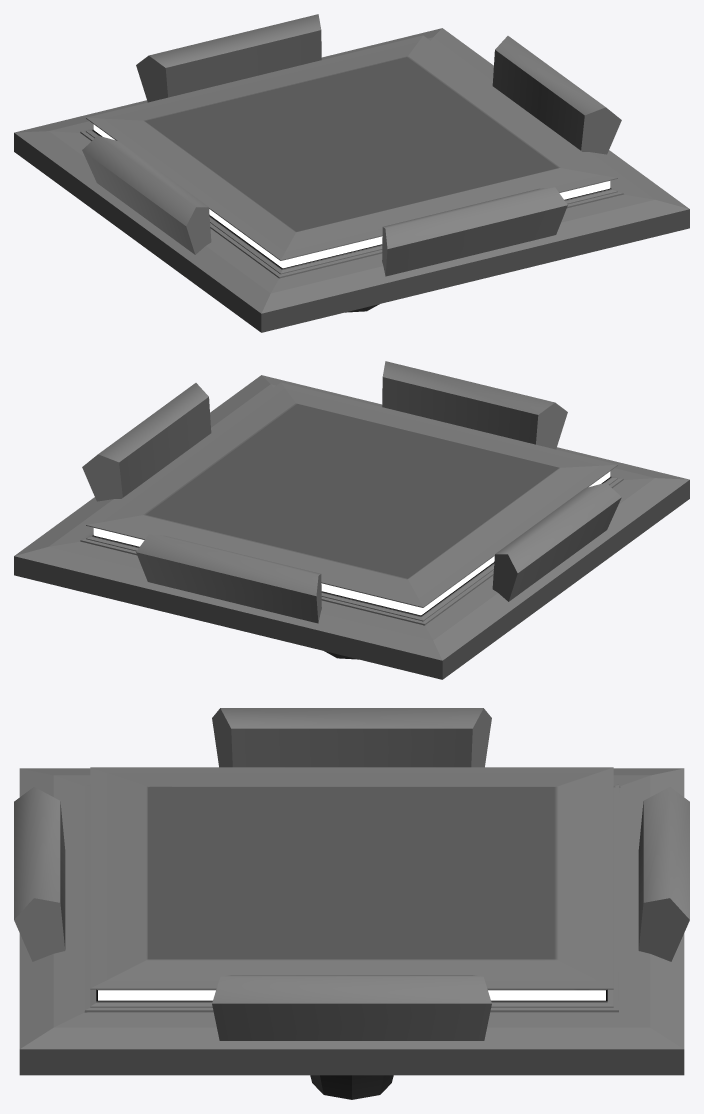
The model's file is PlatformSquared.fbx.
3 renders of one model, top to bottom at view 1: azimuth 30°, elevation 25°; view 2: azimuth 150°, elevation 25°; view 3: azimuth 270°, elevation 25°, orthographic. The views are drawn at different scales.
Visible parts, largest first — view 1: PlatformSquared; view 2: PlatformSquared; view 3: PlatformSquared.
Part boxes in pixels (x1,y1,x2,y2): PlatformSquared: (14,14,689,332); PlatformSquared: (14,361,689,679); PlatformSquared: (14,708,689,1099).
Size of the model in its own units: 203 by 79.88 by 203.
